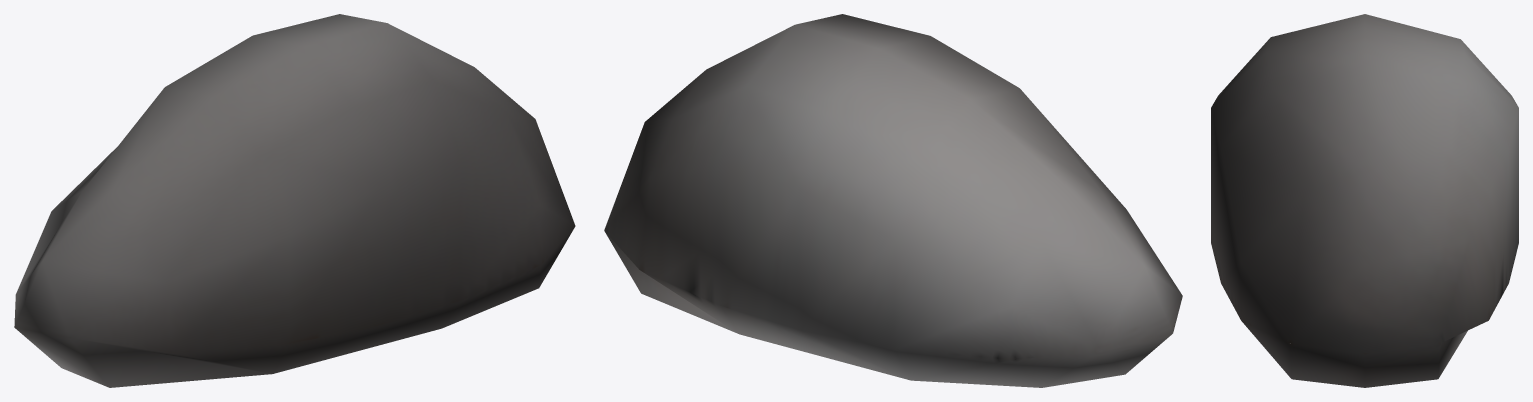
The model's file is rock_2.fbx.
3 renders of one model, left to right at view 1: azimuth 30°, elevation 25°; view 2: azimuth 150°, elevation 25°; view 3: azimuth 270°, elevation 25°, orthographic. The views are drawn at different scales.
Visible parts, largest first — view 1: rock_2; view 2: rock_2; view 3: rock_2.
Part boxes in pixels (x1=…): rock_2: x1=14, y1=14, x2=575, y2=387; rock_2: x1=604, y1=14, x2=1182, y2=387; rock_2: x1=1211, y1=14, x2=1518, y2=387.
Size of the model in its own units: 24.59 by 11.45 by 12.32.
